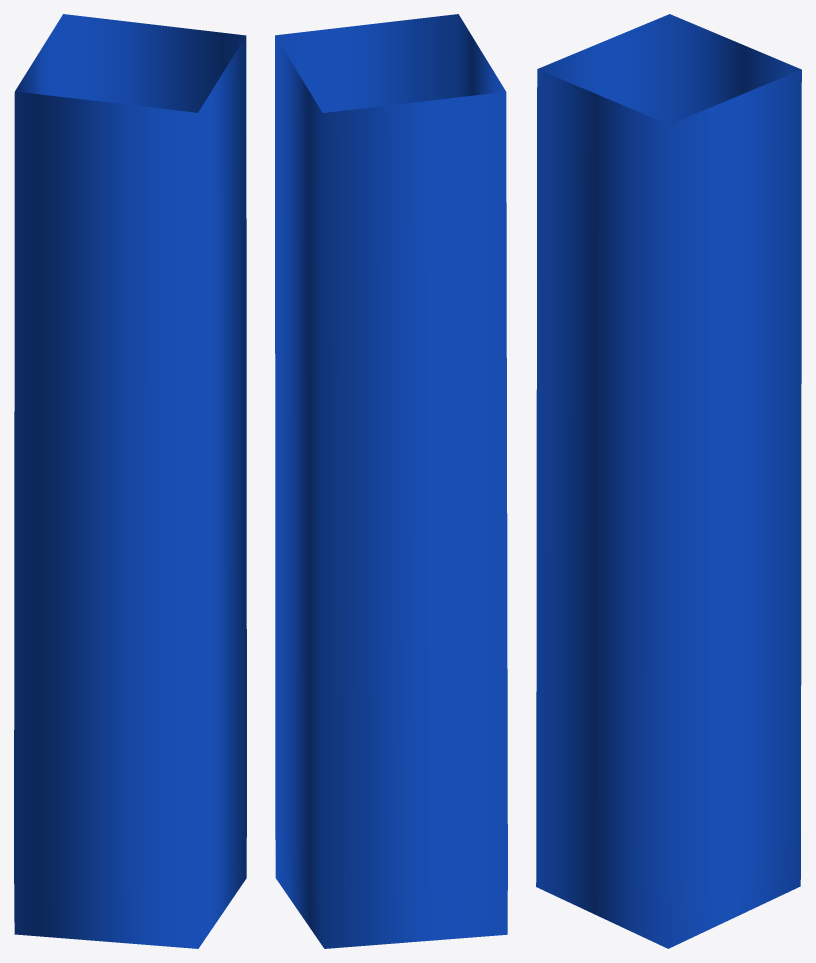
The model's file is Humerus.obj.
3 views of the same model, side by side, from view 1: azimuth 30°, elevation 25°; view 2: azimuth 150°, elevation 25°; view 3: azimuth 270°, elevation 25° (orthographic). The views are drawn at different scales.
Bounding box in the file's own units: 0.3857 × 1.33 × 0.3897.
1 material, 1 textured.
